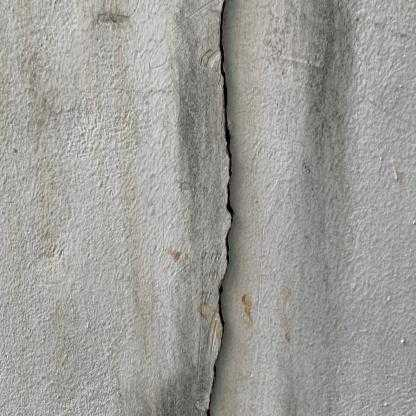crack: (206, 3, 235, 414)
